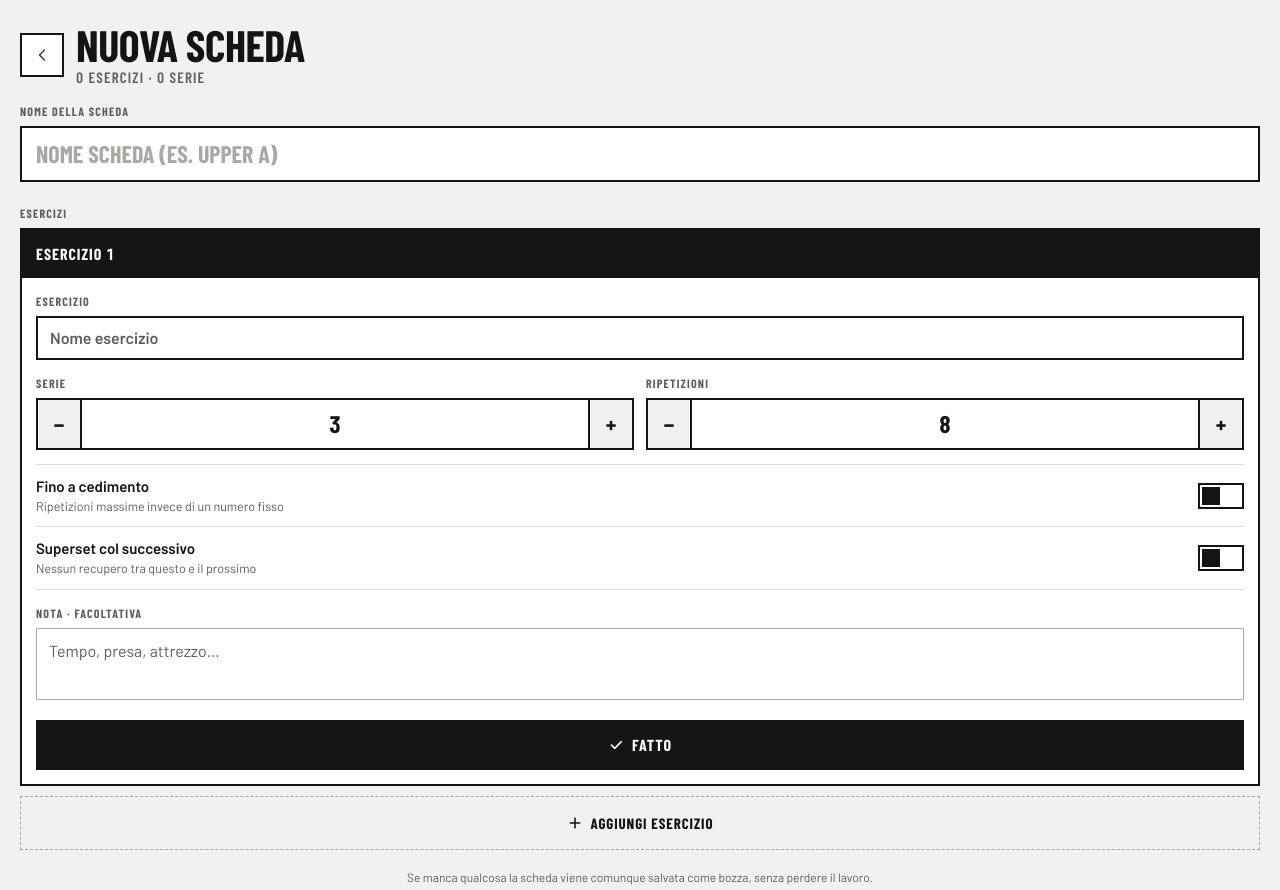
Test case: il form della scheda — esercizi compressi › da compressa una riga dice se le manca qualcosa
Type "Hip thrust" into the field labelled "Nome esercizio". click: (640, 338)
box: x1=36 y1=316 x2=1244 y2=360
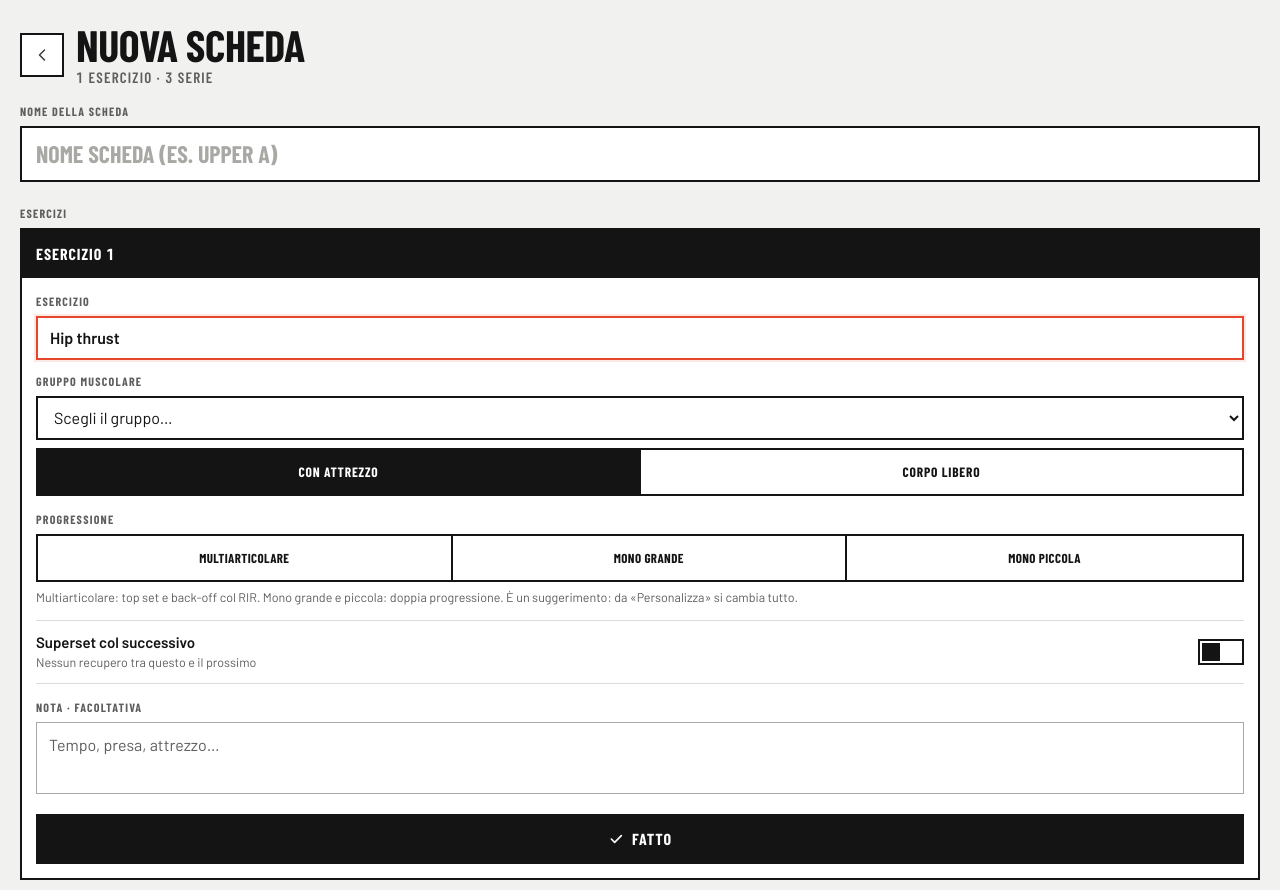
// Esercizio nuovo senza gruppo muscolare: non si può salvare così.
Click the button "Fatto". click: (640, 838)
box: x1=36 y1=814 x2=1244 y2=864
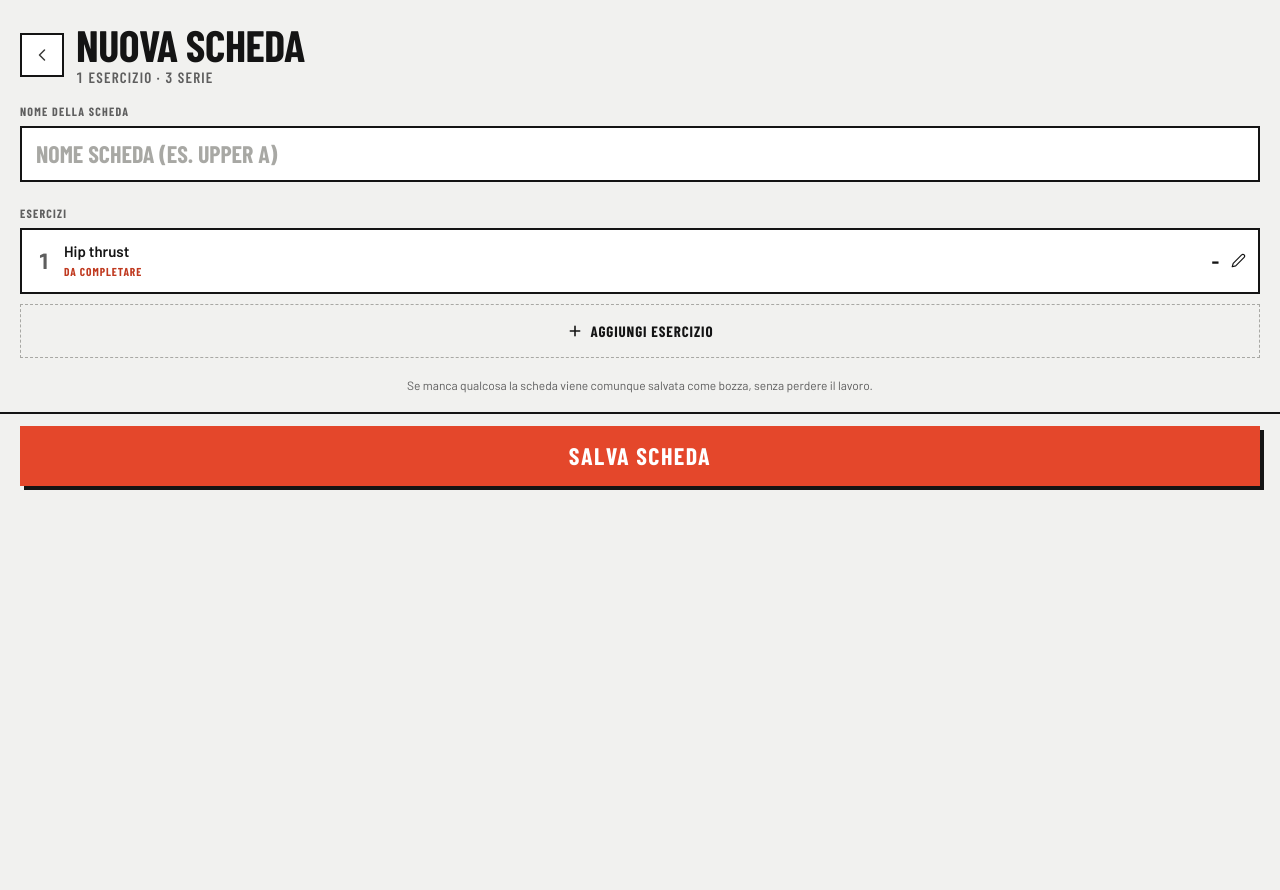
Expected: the button "1 Hip thrust da completare –" is shown, x1=22 y1=230 x2=1258 y2=292
